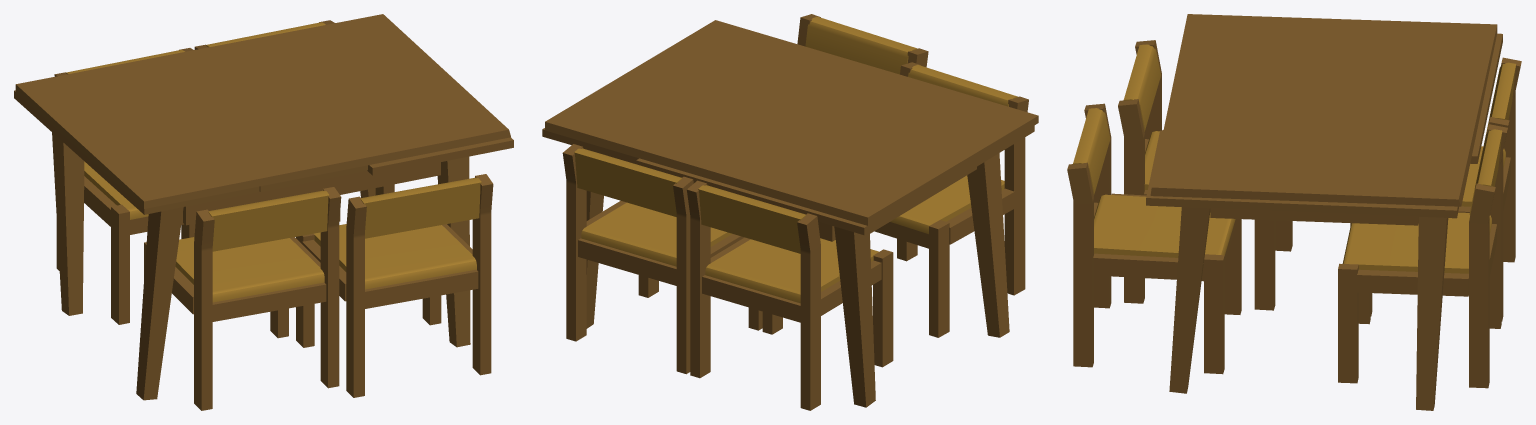
Rendered from Dinner table.fbx.
The picture shows the model from 3 angles, left to right: view 1: azimuth 30°, elevation 25°; view 2: azimuth 150°, elevation 25°; view 3: azimuth 270°, elevation 25°; orthographic projection. The views are drawn at different scales.
Visible parts, largest first — view 1: pCube1, pCube51, pCube57, pCube12, pCube53, pCube59, pCube14, pCube47, pCube42, pCube49, pCube54, pCube15 (+15 smaller); view 2: pCube1, pCube14, pCube12, pCube22, pCube68, pCube36, pCube71, pCube25, pCube62, pCube32, pCube59, pCube42 (+15 smaller); view 3: pCube1, pCube57, pCube13, pCube71, pCube11, pCube54, pCube62, pCube2, pCube49, pCube55, pCube60, pCube16 (+19 smaller).
Boxes of the visible parts, x1,y1,x2,y2 form: pCube1: (15,14,510,208); pCube51: (175,237,324,302); pCube57: (314,224,476,289); pCube12: (136,207,183,400); pCube53: (208,190,329,251); pCube59: (360,177,481,238); pCube14: (52,132,84,315); pCube47: (346,196,366,397); pCube42: (194,209,214,410); pCube49: (320,187,341,388); pCube54: (472,174,493,375); pCube15: (183,162,440,225); pCube1: (545,20,1038,225); pCube14: (834,226,875,407); pCube12: (967,153,1009,337); pCube22: (705,238,878,303); pCube68: (574,148,681,216); pCube36: (698,185,805,253); pCube71: (581,202,732,266); pCube25: (797,213,820,410); pCube62: (562,144,586,341); pCube32: (686,180,710,378); pCube59: (805,16,917,74); pCube42: (1004,96,1028,295); pCube1: (1150,14,1497,206); pCube57: (1094,194,1235,257); pCube13: (1416,217,1448,410); pCube71: (1342,212,1491,273); pCube11: (1169,207,1210,393); pCube54: (1067,162,1093,367); pCube62: (1469,183,1495,388); pCube2: (1146,130,1458,218); pCube49: (1118,99,1144,303); pCube55: (1204,254,1224,374); pCube60: (1338,263,1358,383); pCube16: (1210,208,1418,225).
Size of what is drawn, in the model's own units: 13.75 by 7.59 by 14.1.
